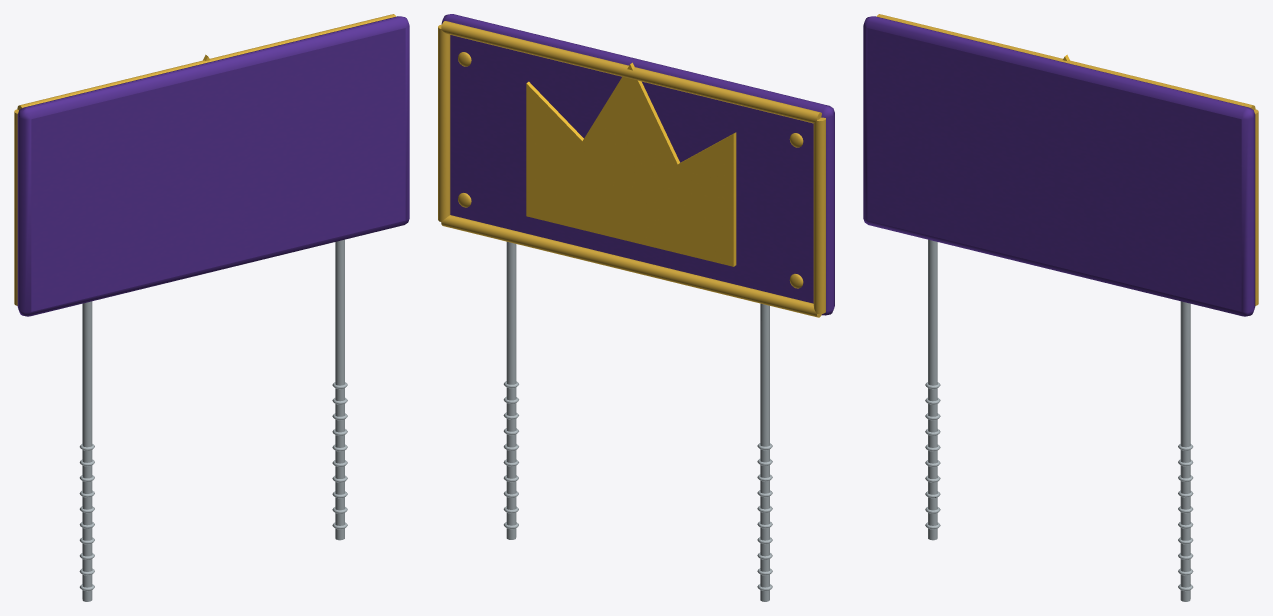
The model's file is TurfKingSign.gltf.
The picture shows the model from 3 angles, left to right: view 1: azimuth 30°, elevation 25°; view 2: azimuth 150°, elevation 25°; view 3: azimuth 330°, elevation 25°; orthographic projection.
Parts seen in each view (by area): view 1: TurfKingSign__Body; view 2: TurfKingSign__Body; view 3: TurfKingSign__Body.
Part boxes in pixels (x1,y1,x2,y2): TurfKingSign__Body: (14, 14, 409, 601); TurfKingSign__Body: (438, 14, 834, 601); TurfKingSign__Body: (863, 14, 1258, 601).
Size of the model in its own units: 0.448 by 0.56 by 0.028.
Materials: 1 (1 with a texture image).
